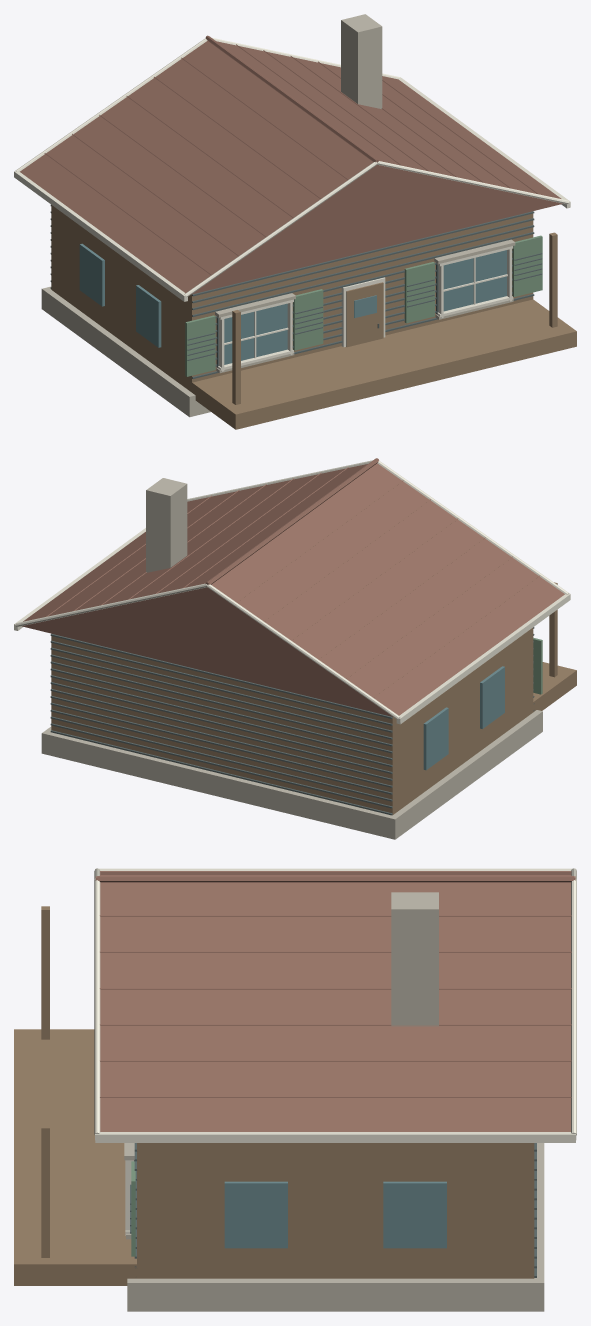
3 renders of one model, top to bottom at view 1: azimuth 30°, elevation 25°; view 2: azimuth 150°, elevation 25°; view 3: azimuth 270°, elevation 25°, orthographic. The views are drawn at different scales.
Bounding box in the file's own units: 15.86 × 9.9 × 14.18.
